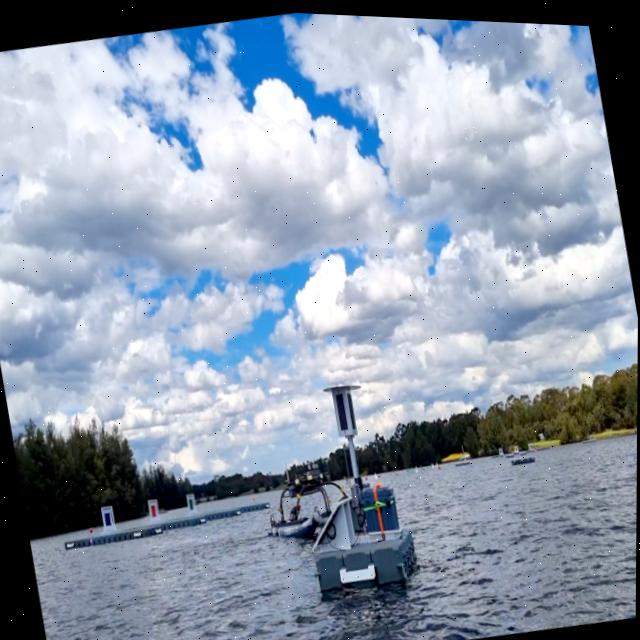led: (333, 385, 352, 432)
